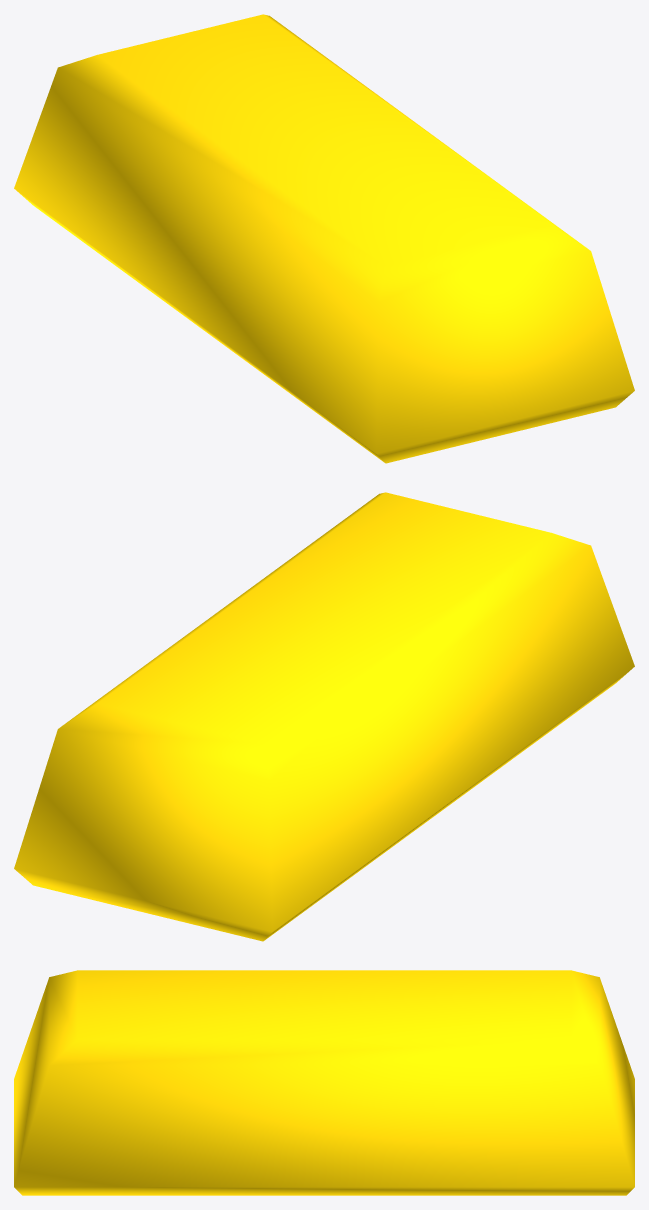
File: GoldBullion.glb
The picture shows the model from 3 angles, top to bottom: view 1: azimuth 30°, elevation 25°; view 2: azimuth 150°, elevation 25°; view 3: azimuth 270°, elevation 25°; orthographic projection. The views are drawn at different scales.
Parts seen in each view (by area): view 1: Bullion; view 2: Bullion; view 3: Bullion.
Boxes of the visible parts, x1,y1,x2,y2 form: Bullion: (14, 14, 634, 463); Bullion: (14, 492, 634, 941); Bullion: (14, 970, 634, 1195).
Bounding box in the file's own units: 0.2661 × 0.1637 × 0.6465.
